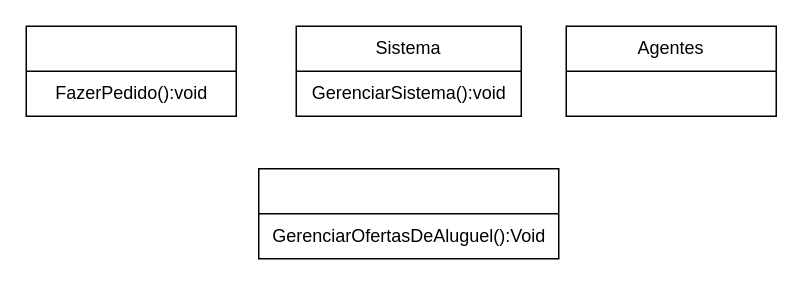
Some shapes in this 803 by 285 pixel diagram are drawn without their labels. The box of each missing label's shape, as (x1, y1, x2, y2) in pixels:
Cliente: (25, 25, 236, 116)
Contratantes de Aluguel: (257, 167, 559, 259)
